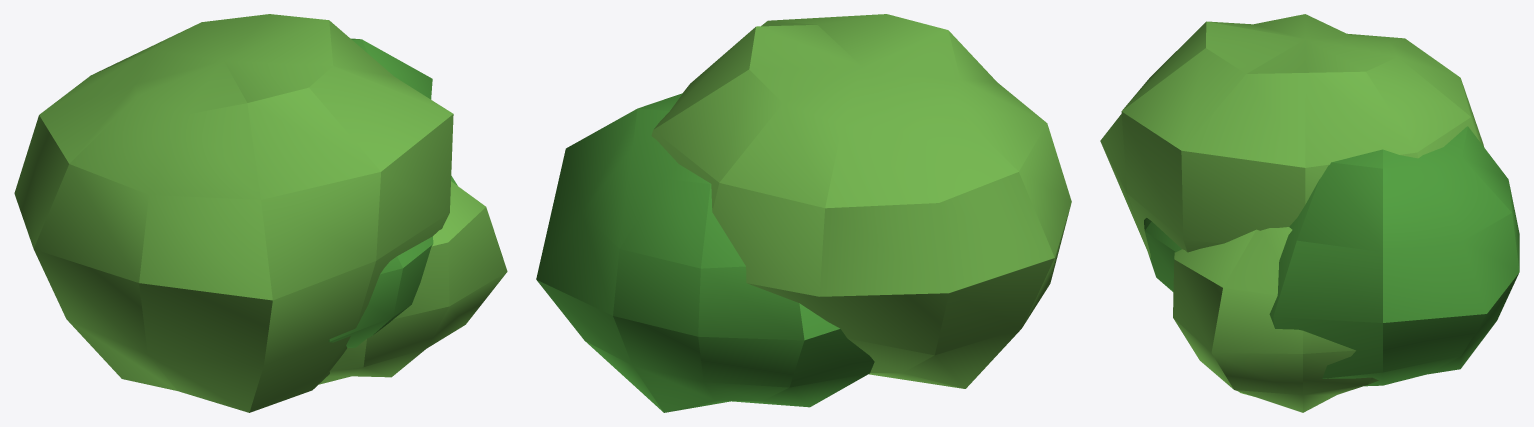
The model's file is busch_1.obj.
The picture shows the model from 3 angles, left to right: view 1: azimuth 30°, elevation 25°; view 2: azimuth 150°, elevation 25°; view 3: azimuth 270°, elevation 25°; orthographic projection. The views are drawn at different scales.
Visible parts, largest first — view 1: busch_1_Koerper; view 2: busch_1_Koerper; view 3: busch_1_Koerper.
Boxes of the visible parts, x1,y1,x2,y2 form: busch_1_Koerper: [14, 14, 507, 412]; busch_1_Koerper: [536, 14, 1071, 412]; busch_1_Koerper: [1100, 14, 1519, 412].
Size of the model in its own units: 1.19 by 0.8796 by 1.07.
